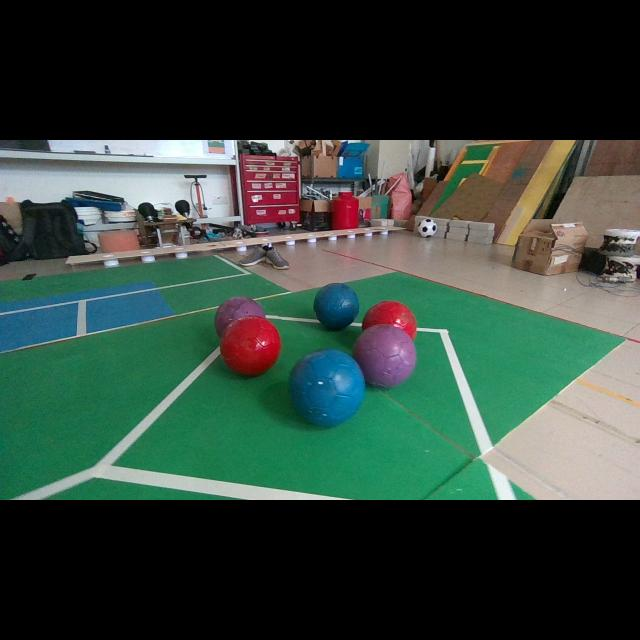B: (290, 349, 365, 426), (314, 282, 360, 329)
P: (352, 324, 416, 388), (215, 296, 265, 336)
R: (220, 316, 281, 375), (362, 300, 416, 340)
